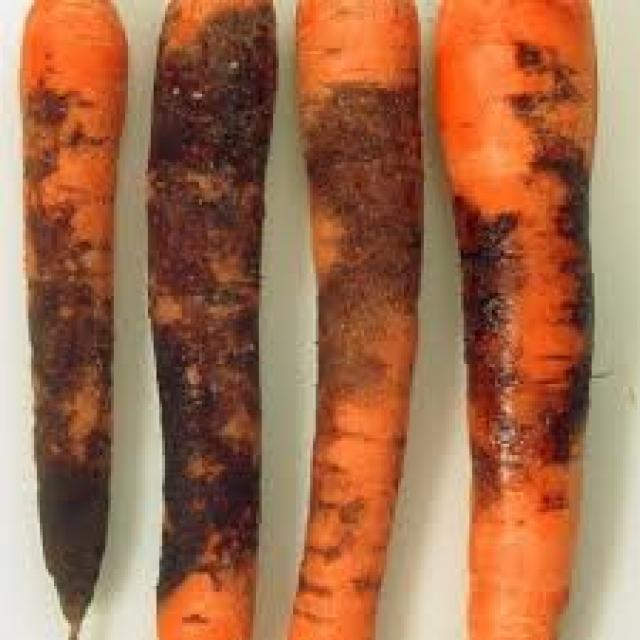Stale_Carrot: (428, 3, 597, 636), (269, 0, 430, 640), (159, 13, 275, 632), (15, 6, 121, 627)
